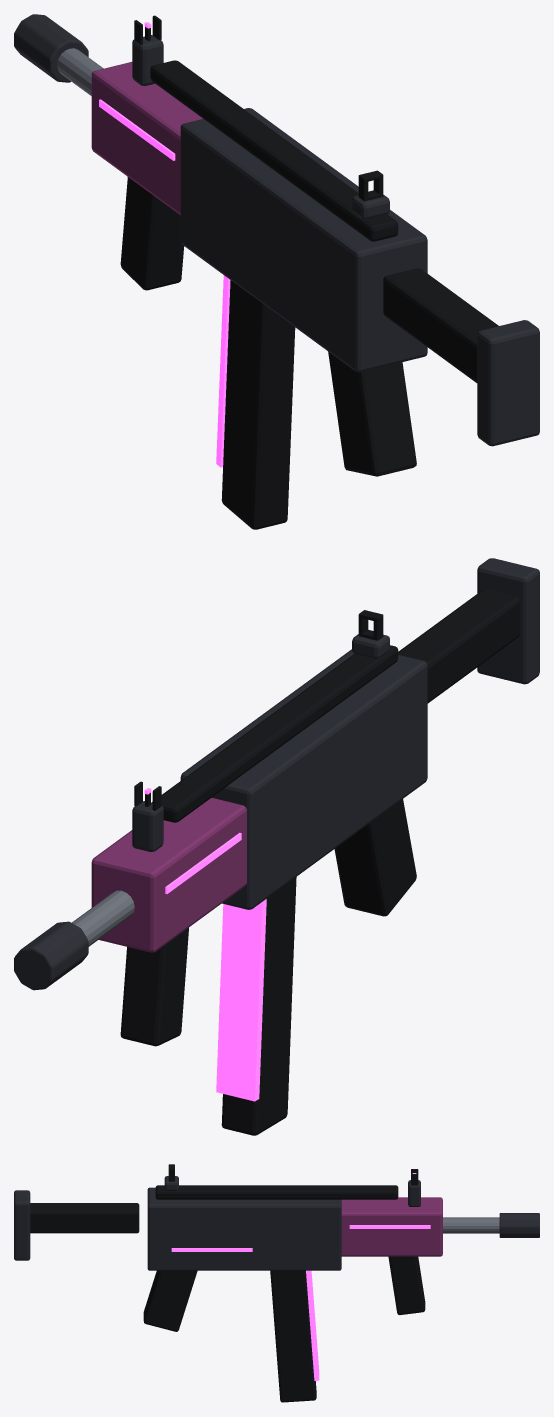
Rendered from smg.glb.
3 renders of one model, top to bottom at view 1: azimuth 30°, elevation 25°; view 2: azimuth 150°, elevation 25°; view 3: azimuth 270°, elevation 25°, orthographic. The views are drawn at different scales.
Visible parts, largest first — view 1: Body, Magazine, IronSights; view 2: Body, Magazine, IronSights; view 3: Body, Magazine, IronSights.
Part boxes in pixels (bbox=[...]): Body: bbox=[14, 14, 539, 476]; Magazine: bbox=[216, 275, 295, 529]; IronSights: bbox=[132, 15, 389, 219]; Body: bbox=[14, 558, 539, 1046]; Magazine: bbox=[216, 877, 296, 1135]; IronSights: bbox=[132, 610, 389, 851]; Body: bbox=[14, 1185, 539, 1331]; Magazine: bbox=[270, 1270, 319, 1402]; IronSights: bbox=[164, 1164, 420, 1206].
Size of the model in its own units: 0.0575 by 0.3161 by 0.65.
